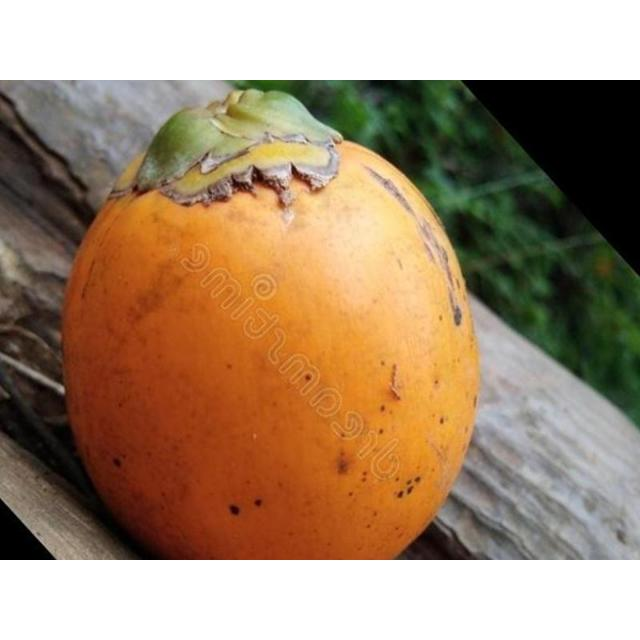good: (61, 90, 483, 559)
